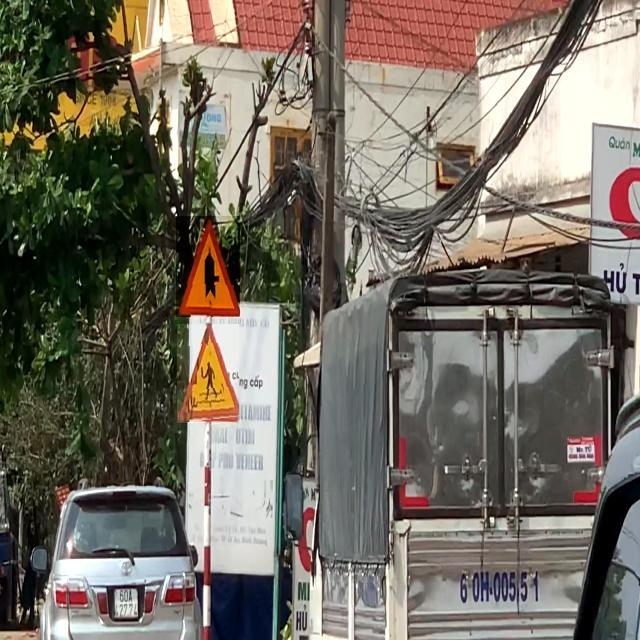W-207b: (177, 216, 241, 317)
W-224: (177, 324, 239, 423)
